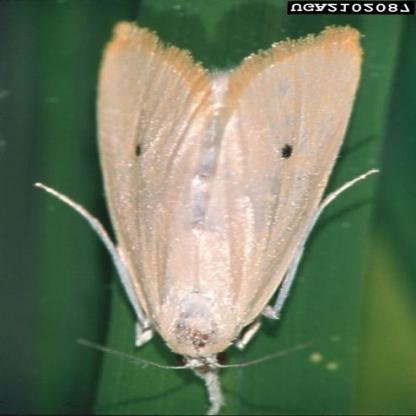stem-borer: (30, 18, 380, 416)
